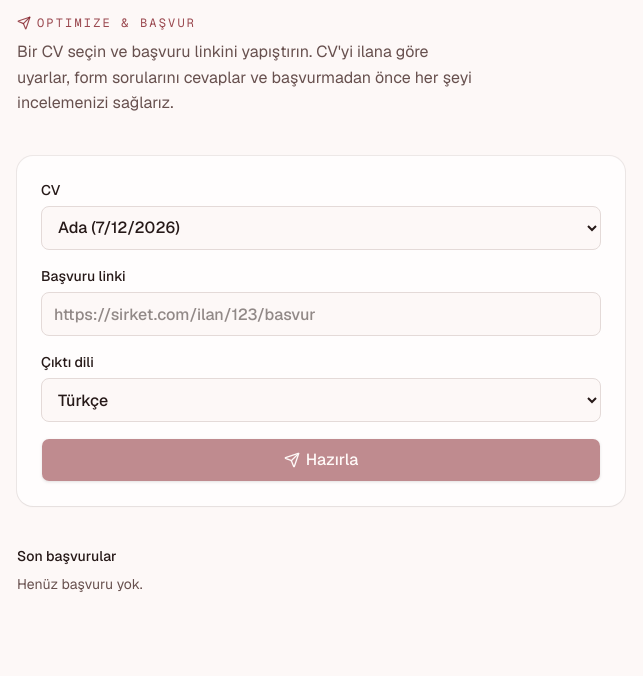
Test case: captcha goes straight to delivery mode (no submit button)
Expected: the dropdown labelled "CV" is shown, top-left (41, 206), bottom-right (601, 250)
In the field labelled "Başvuru linki": point(321, 314) top-left (41, 292), bottom-right (601, 336), type "https://j.com/1"
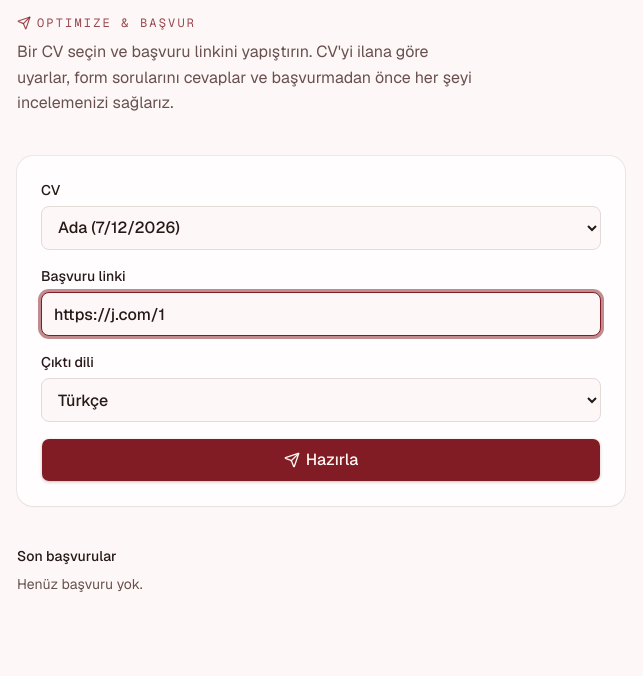
Click the button "Hazırla": point(321, 460) top-left (41, 438), bottom-right (601, 482)
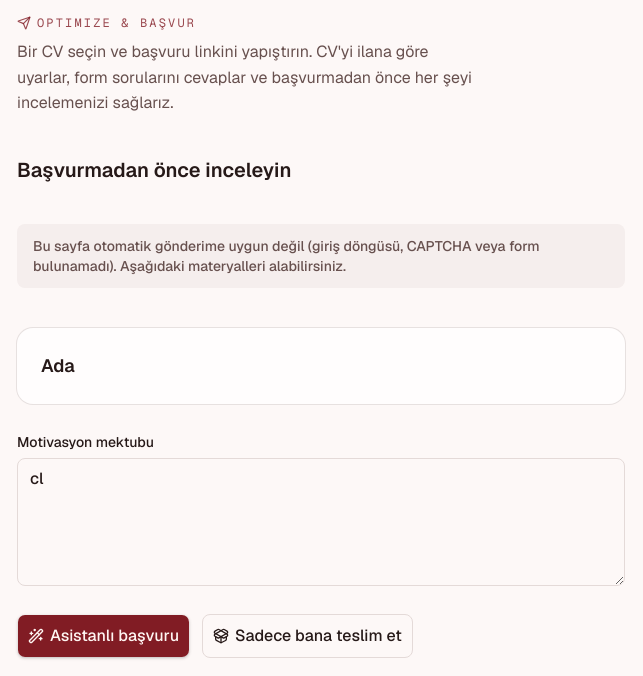
Expected: the heading "Başvurmadan önce inceleyin" is shown, top-left (17, 157), bottom-right (291, 183)
